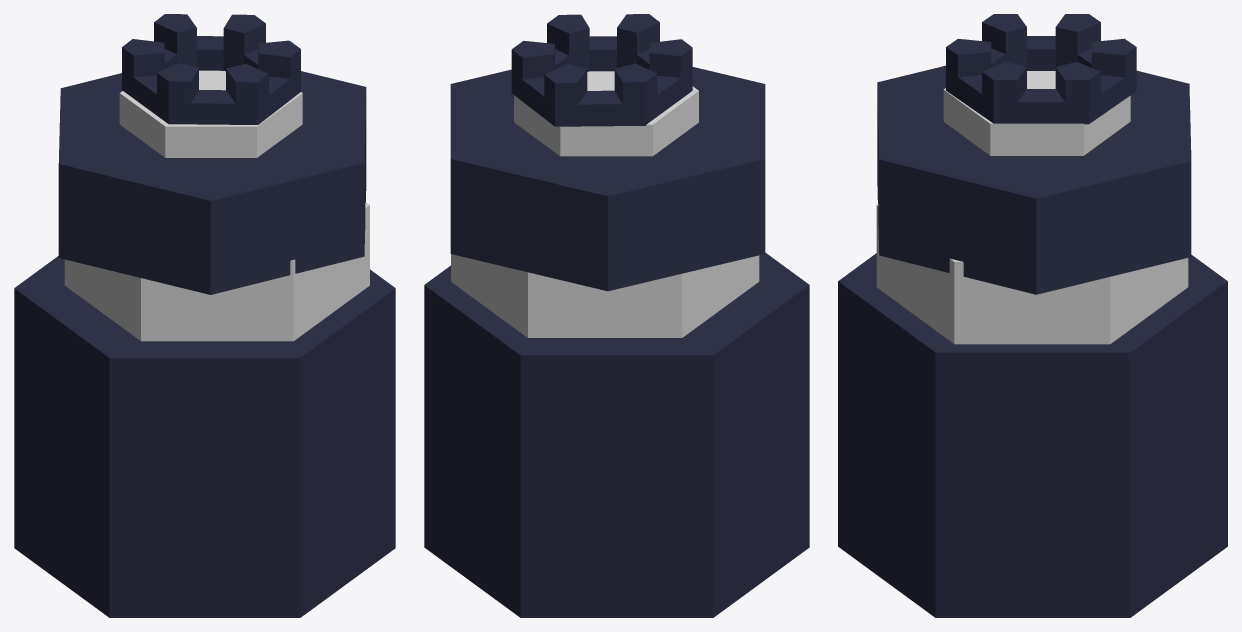
Rendered from Cannon.fbx.
3 renders of one model, left to right at view 1: azimuth 30°, elevation 25°; view 2: azimuth 150°, elevation 25°; view 3: azimuth 270°, elevation 25°, orthographic. The views are drawn at different scales.
Visible parts, largest first — view 1: hexagon_ring (×4), hexagon_castleBattlement; view 2: hexagon_ring (×4), hexagon_castleBattlement; view 3: hexagon_ring (×4), hexagon_castleBattlement.
Boxes of the visible parts, bbox=[...] form: hexagon_ring (×4): bbox=[14, 70, 395, 617]; hexagon_castleBattlement: bbox=[122, 14, 300, 124]; hexagon_ring (×4): bbox=[424, 67, 809, 617]; hexagon_castleBattlement: bbox=[511, 14, 692, 126]; hexagon_ring (×4): bbox=[838, 65, 1227, 617]; hexagon_castleBattlement: bbox=[946, 14, 1136, 124].
Size of the model in its own units: 1.87 by 2.85 by 2.
